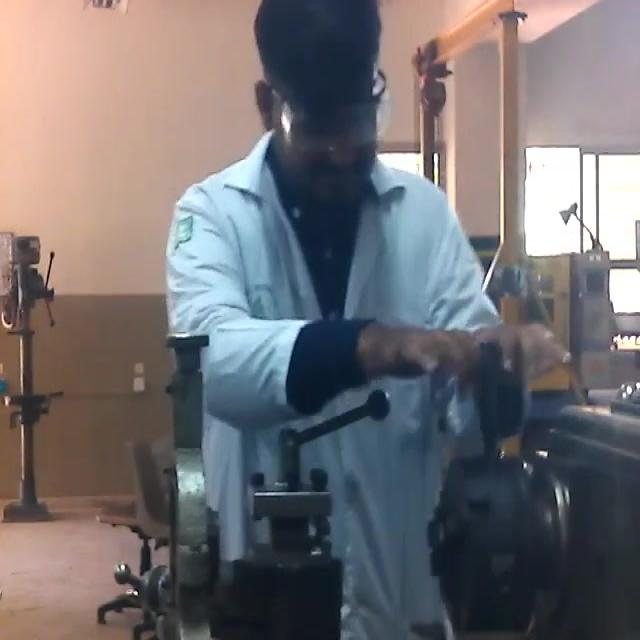googles: (266, 84, 394, 154)
labcoat: (162, 130, 508, 640)
